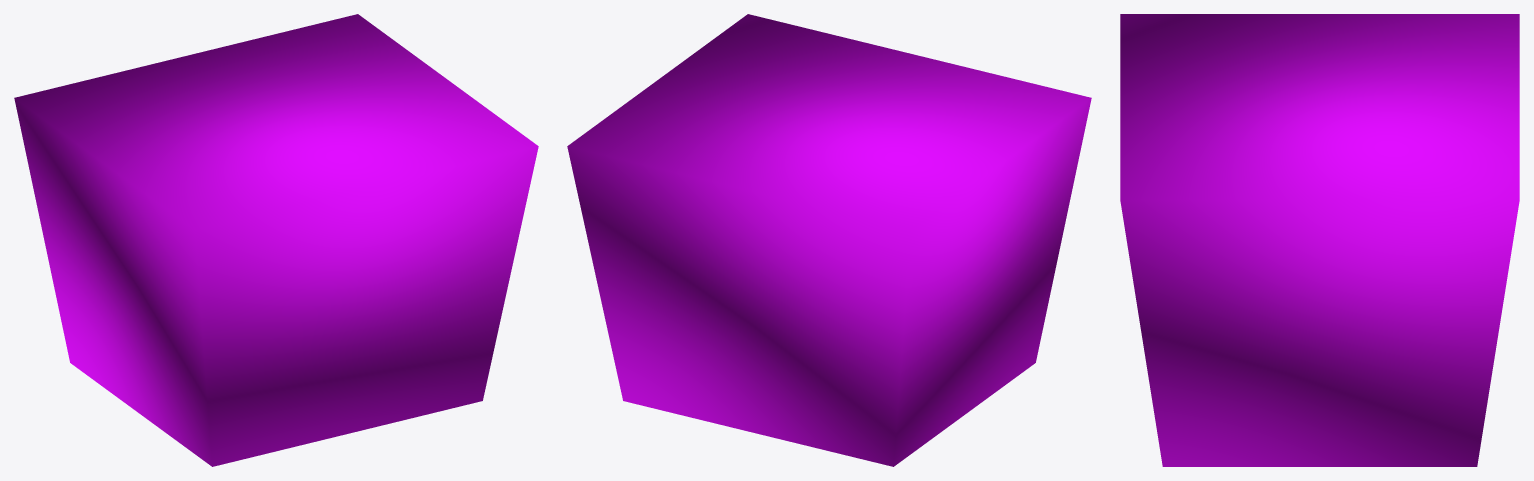
File: CommonPeople_FreeSample_anniversy_gifBox_meshCollider.fbx
The picture shows the model from 3 angles, left to right: view 1: azimuth 30°, elevation 25°; view 2: azimuth 150°, elevation 25°; view 3: azimuth 270°, elevation 25°; orthographic projection. The views are drawn at different scales.
Visible parts, largest first — view 1: CommonPeople_FreeSample_anniversy_gifBox_meshCollider; view 2: CommonPeople_FreeSample_anniversy_gifBox_meshCollider; view 3: CommonPeople_FreeSample_anniversy_gifBox_meshCollider.
Boxes of the visible parts, x1,y1,x2,y2 form: CommonPeople_FreeSample_anniversy_gifBox_meshCollider: (14,14,538,466); CommonPeople_FreeSample_anniversy_gifBox_meshCollider: (567,14,1091,466); CommonPeople_FreeSample_anniversy_gifBox_meshCollider: (1120,14,1519,466).
Bounding box in the file's own units: 25.56 × 18.47 × 23.28.
